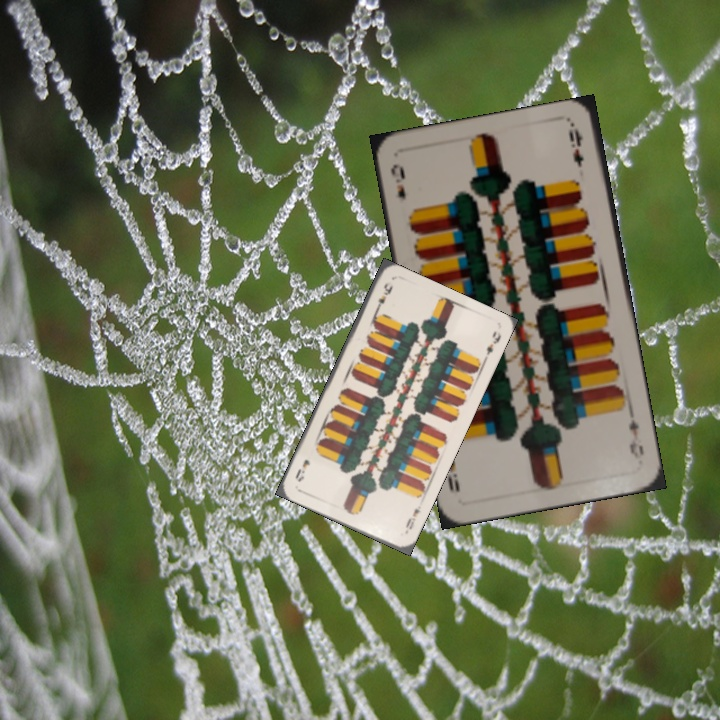E9: (624, 407, 647, 462), (371, 277, 395, 316), (386, 160, 408, 202), (401, 504, 422, 532)
